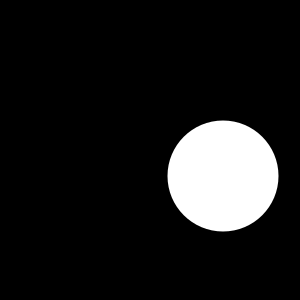rectangle: (168, 120, 278, 232)
